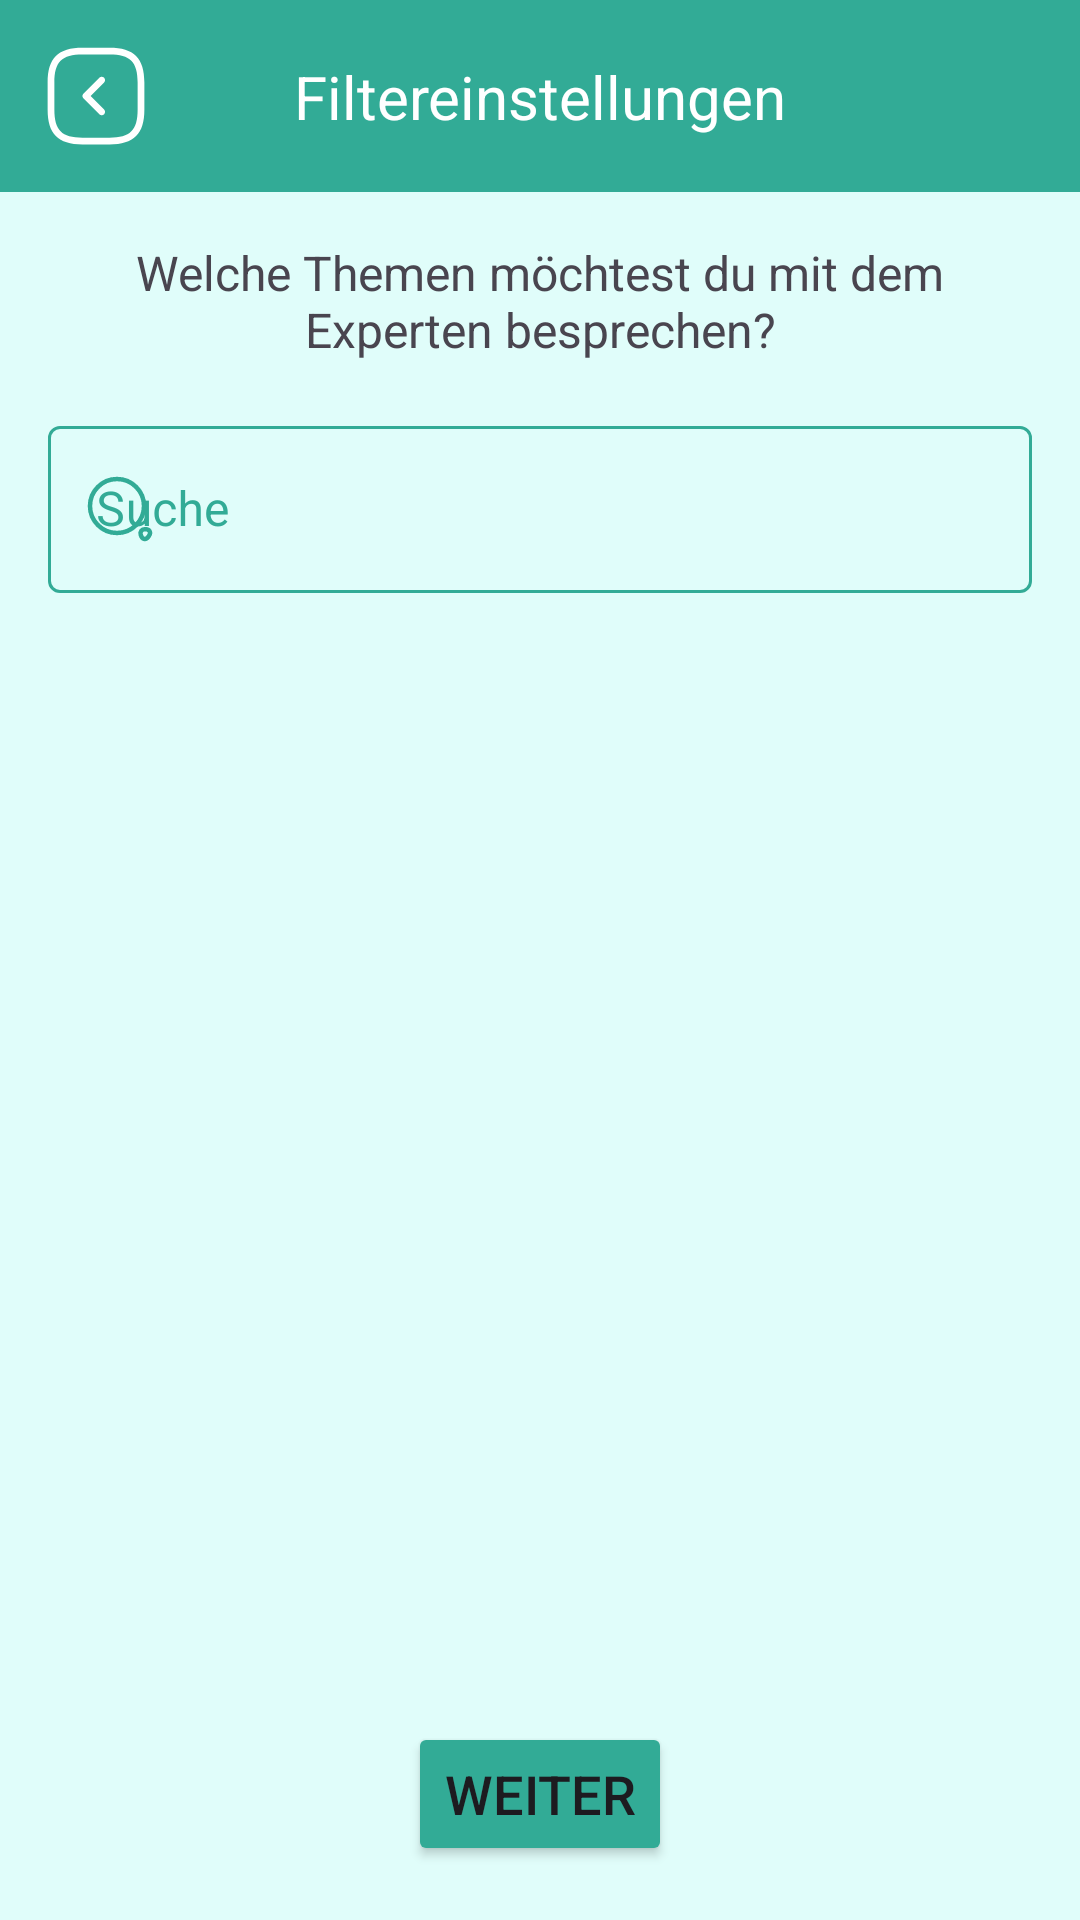

Named icons in this screenshot (1080x1920) and their bounding boxes, (x1, y1, x2, y2):
arrow square left: (47, 47, 145, 145)
